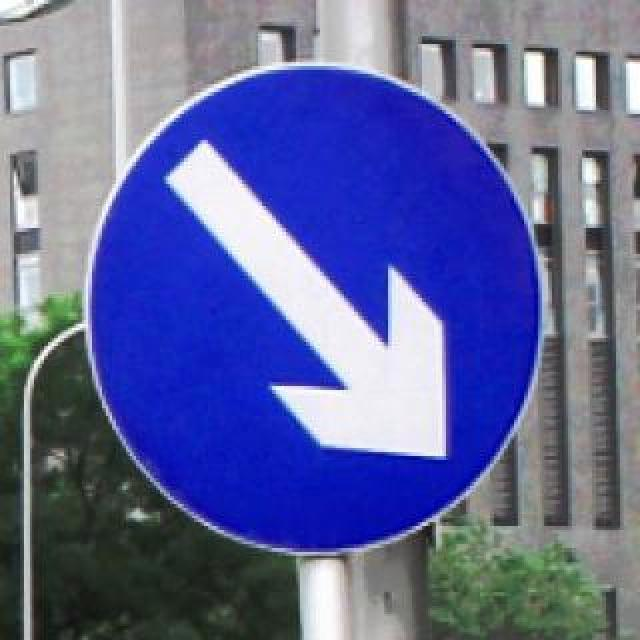keep right: (82, 52, 542, 560)
